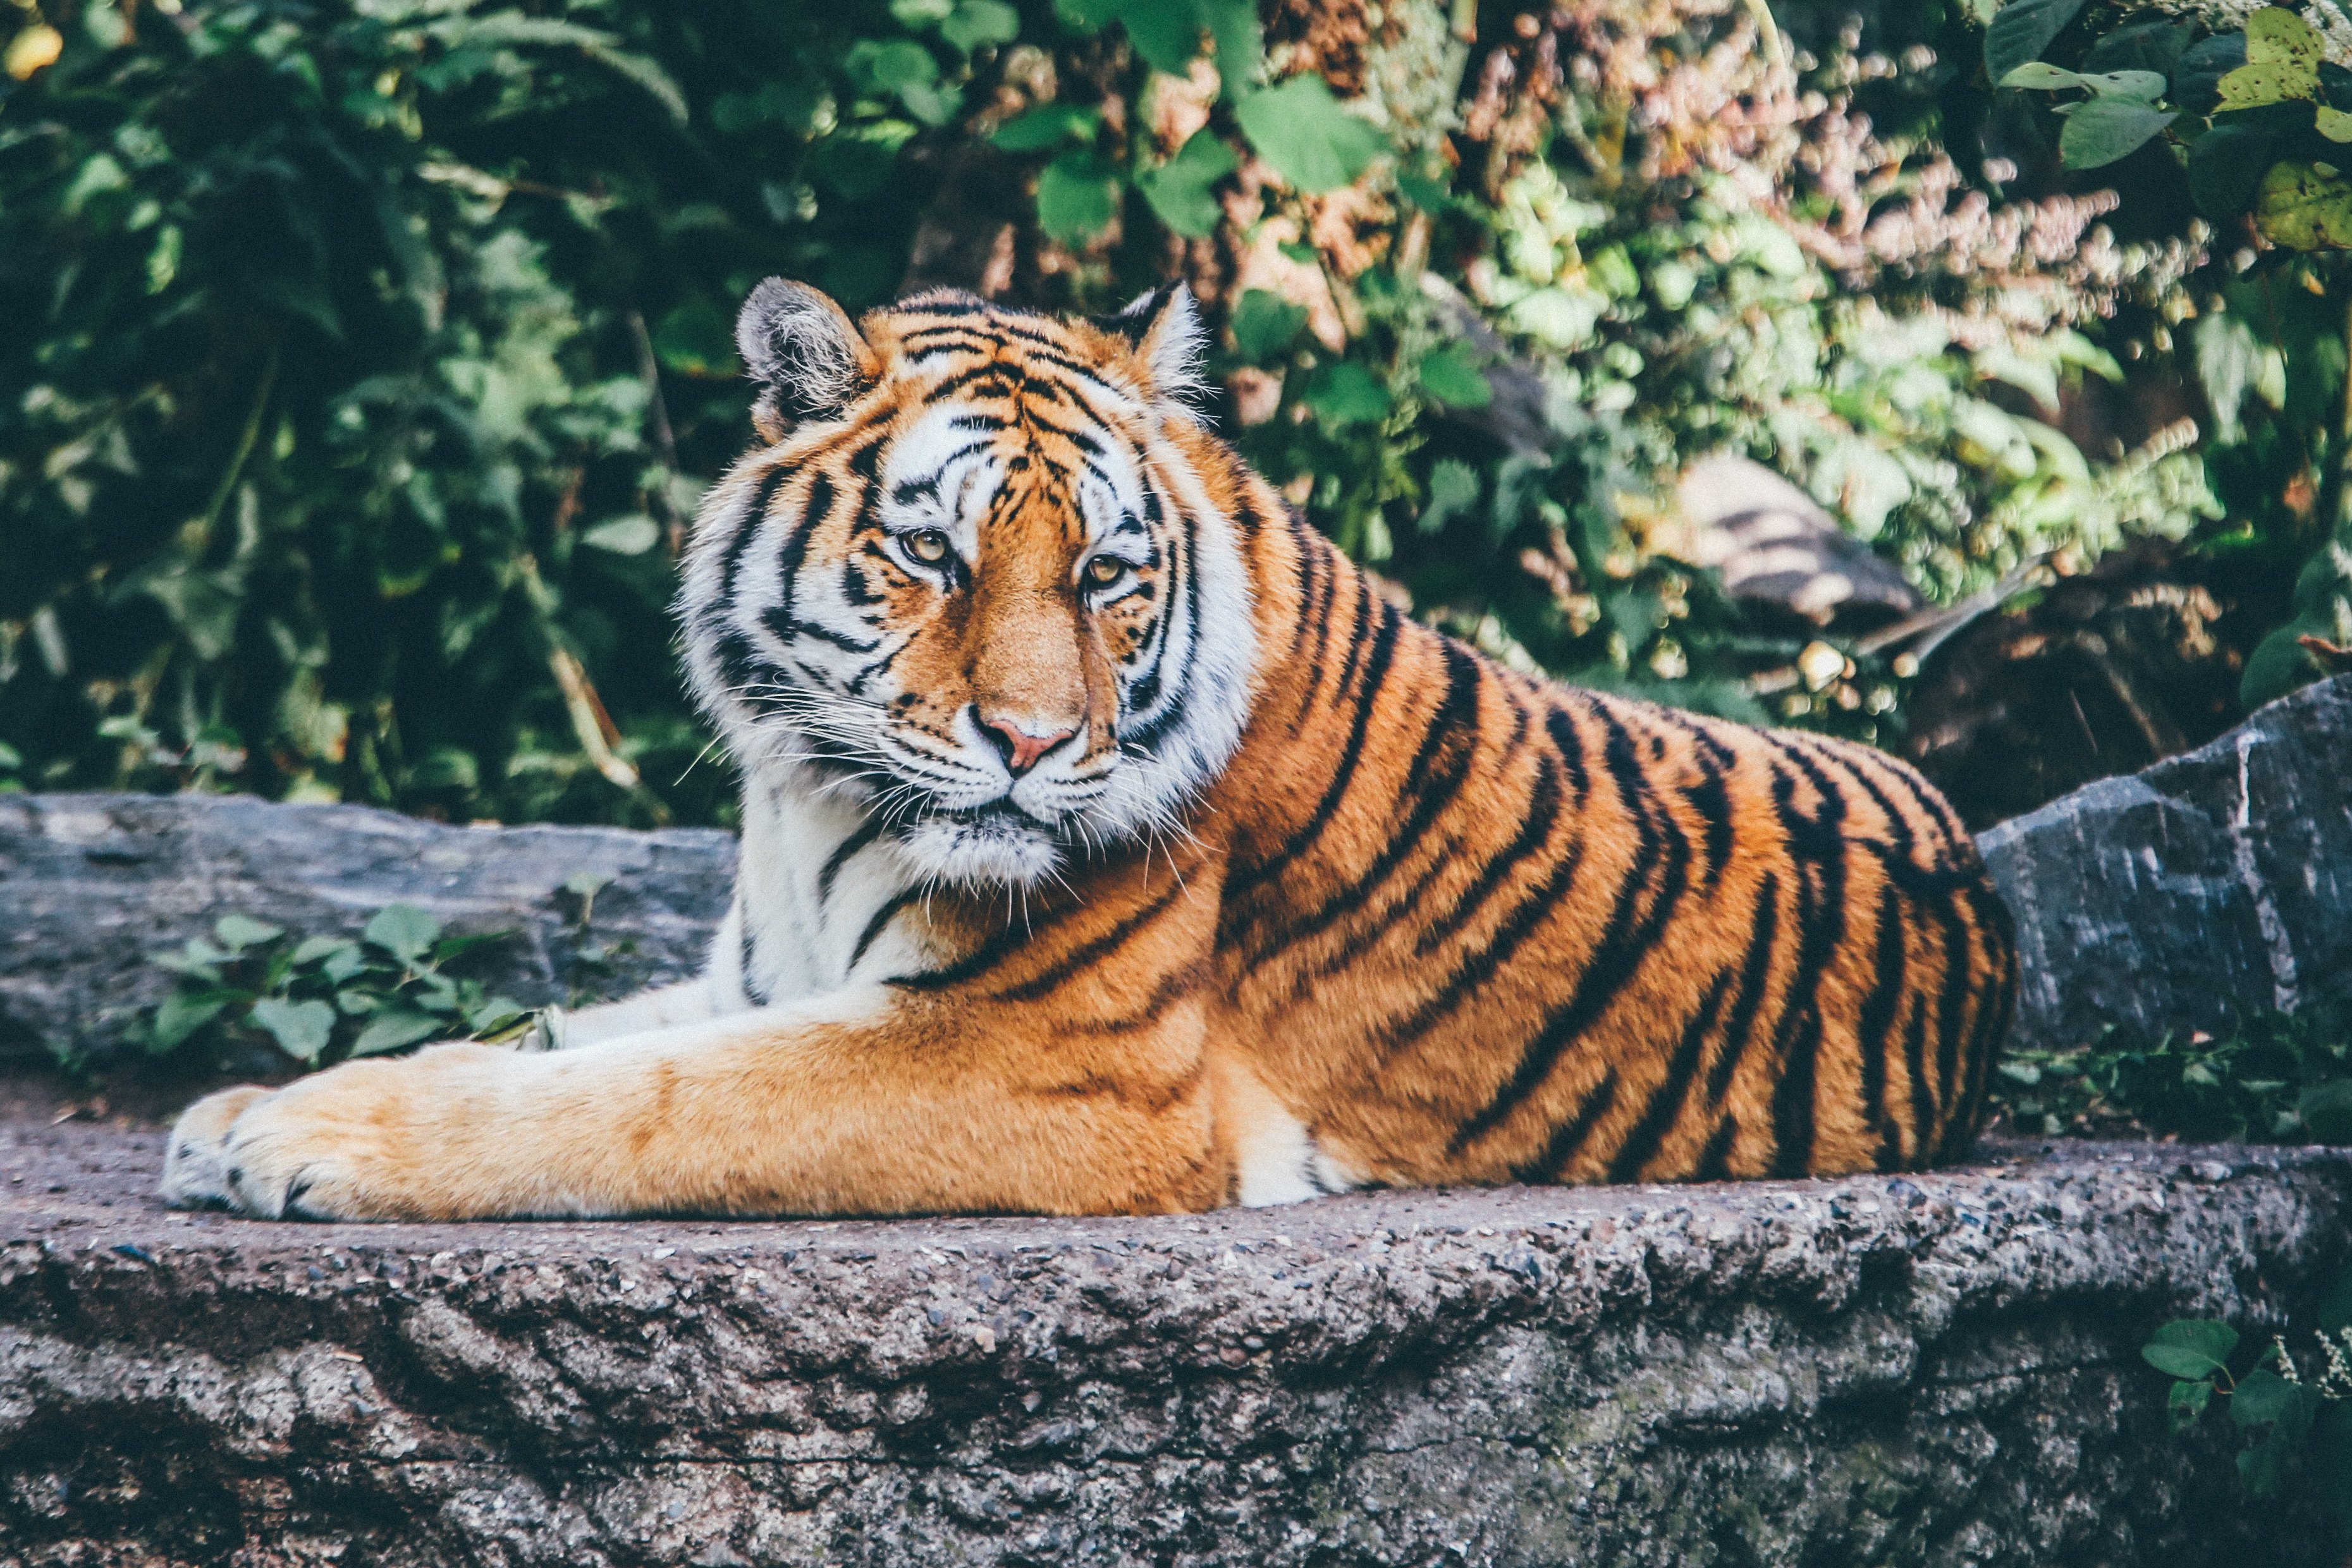tiger: (462, 283, 2037, 1295)
